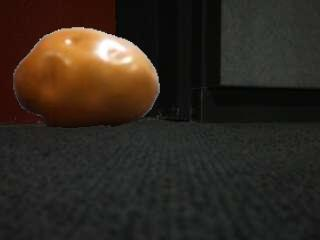Potato: (12, 28, 160, 128)
